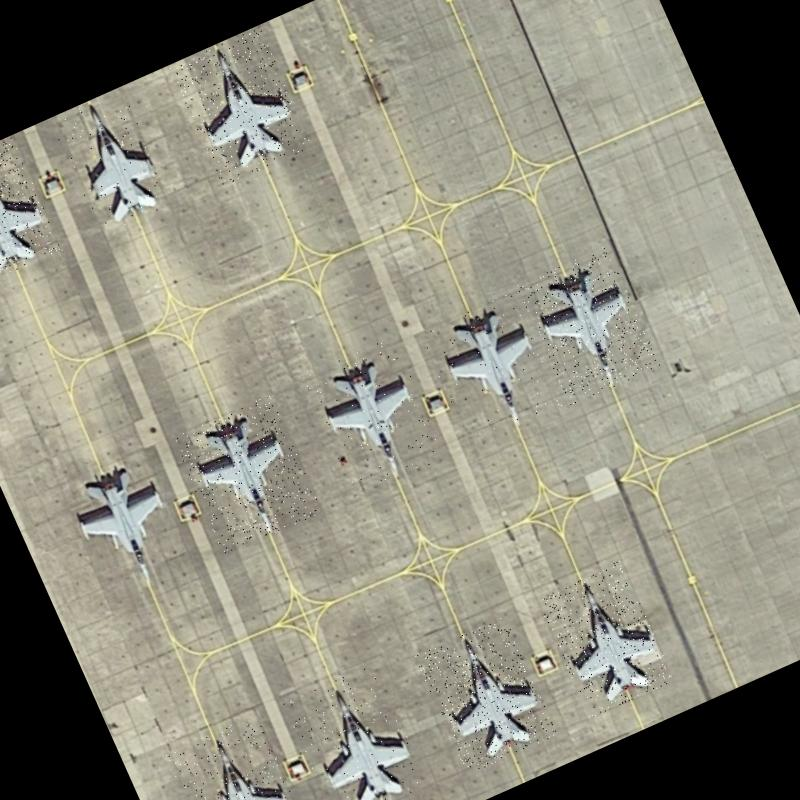A16: (172, 394, 323, 556), (50, 446, 198, 610), (302, 336, 447, 498), (516, 245, 660, 406), (170, 26, 314, 186), (419, 290, 564, 447), (415, 616, 558, 775), (536, 560, 675, 718), (283, 663, 429, 800), (48, 88, 174, 239), (165, 713, 312, 800), (0, 137, 63, 291)
